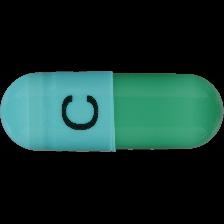50268-180: (0, 0, 224, 224)
